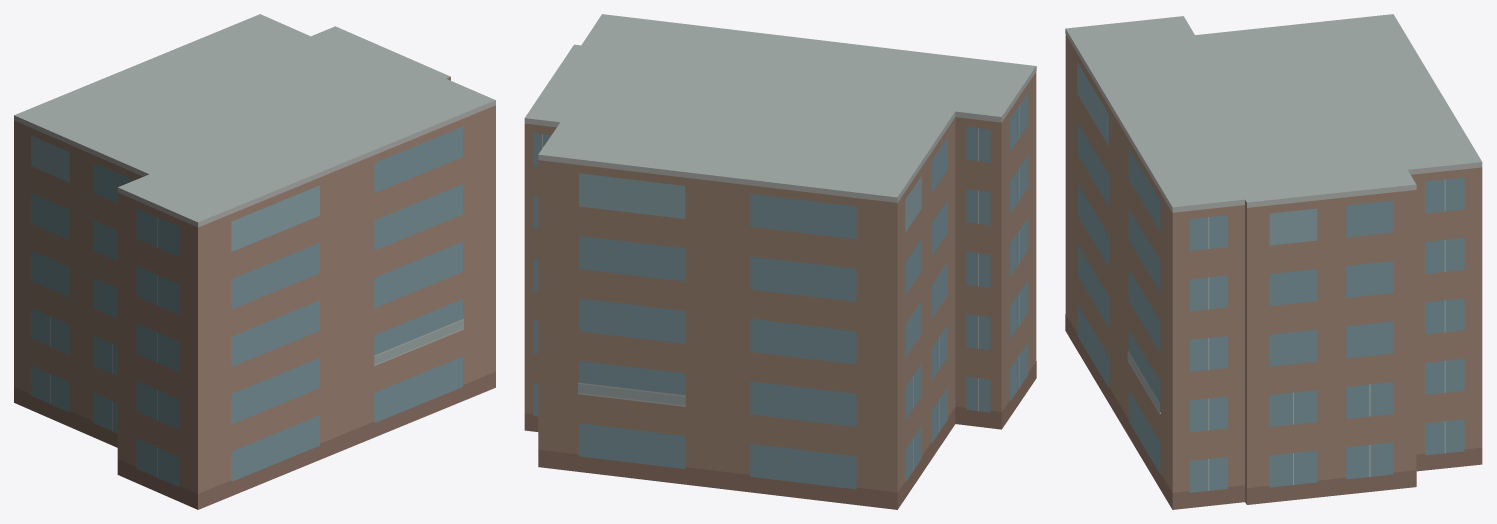
File: survey-upis-32524156.glb
3 views of the same model, side by side, from view 1: azimuth 30°, elevation 25°; view 2: azimuth 150°, elevation 25°; view 3: azimuth 270°, elevation 25° (orthographic). The views are drawn at different scales.
Visible parts, largest first — view 1: survey-upis-32524156.tmp; view 2: survey-upis-32524156.tmp; view 3: survey-upis-32524156.tmp.
Boxes of the visible parts, bbox=[...] form: survey-upis-32524156.tmp: bbox=[14, 14, 495, 509]; survey-upis-32524156.tmp: bbox=[524, 14, 1036, 509]; survey-upis-32524156.tmp: bbox=[1065, 14, 1482, 509].
Size of the model in its own units: 19.08 by 13.9 by 17.38.
